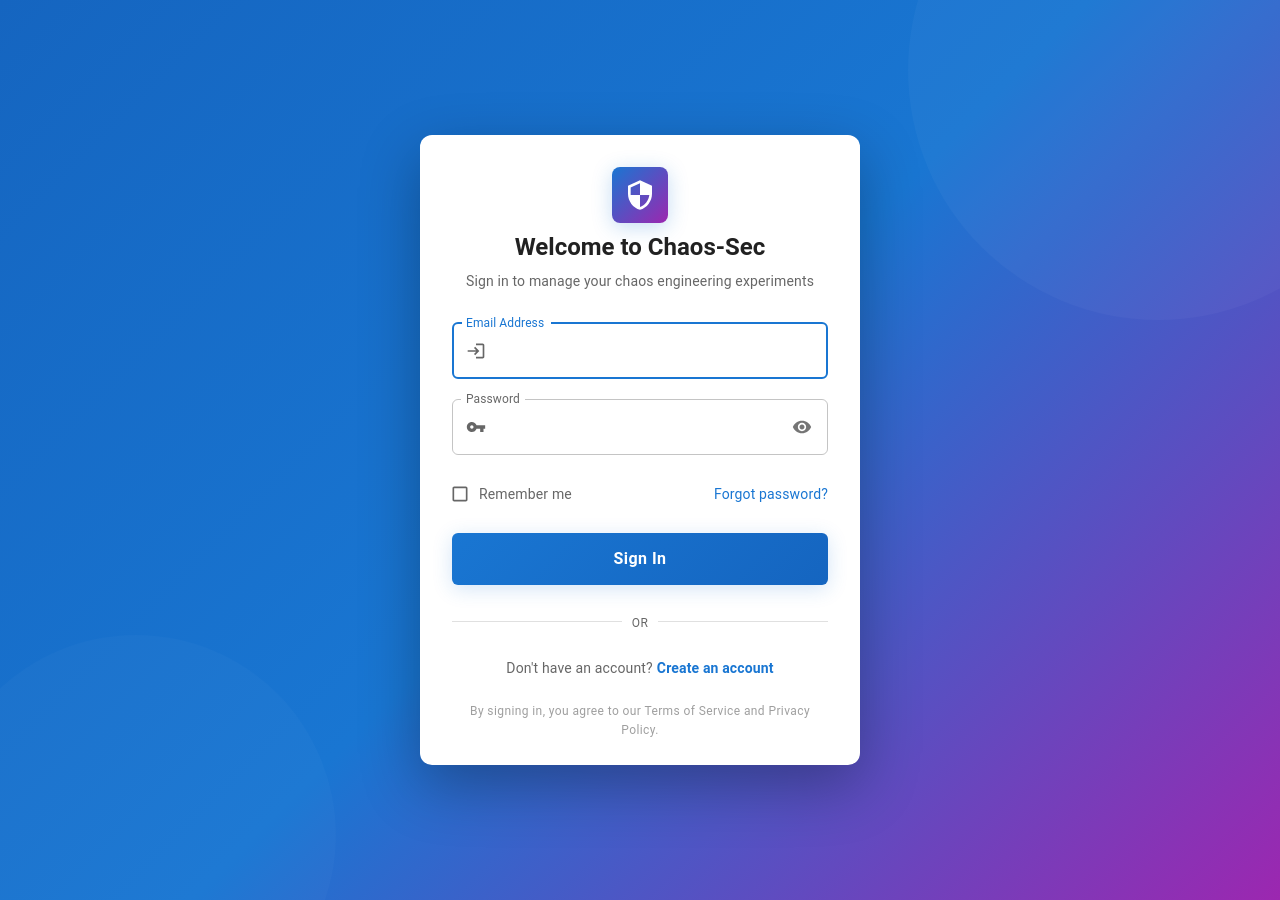
Test: LoginPage – form validation › shows "Enter a valid email address" when email is invalid
This screenshot has width=1280, height=900.
Type "invalid-email" into the field labelled "Email Address".
click(661, 351); type("invalid-email")  # box [494,323,828,379]
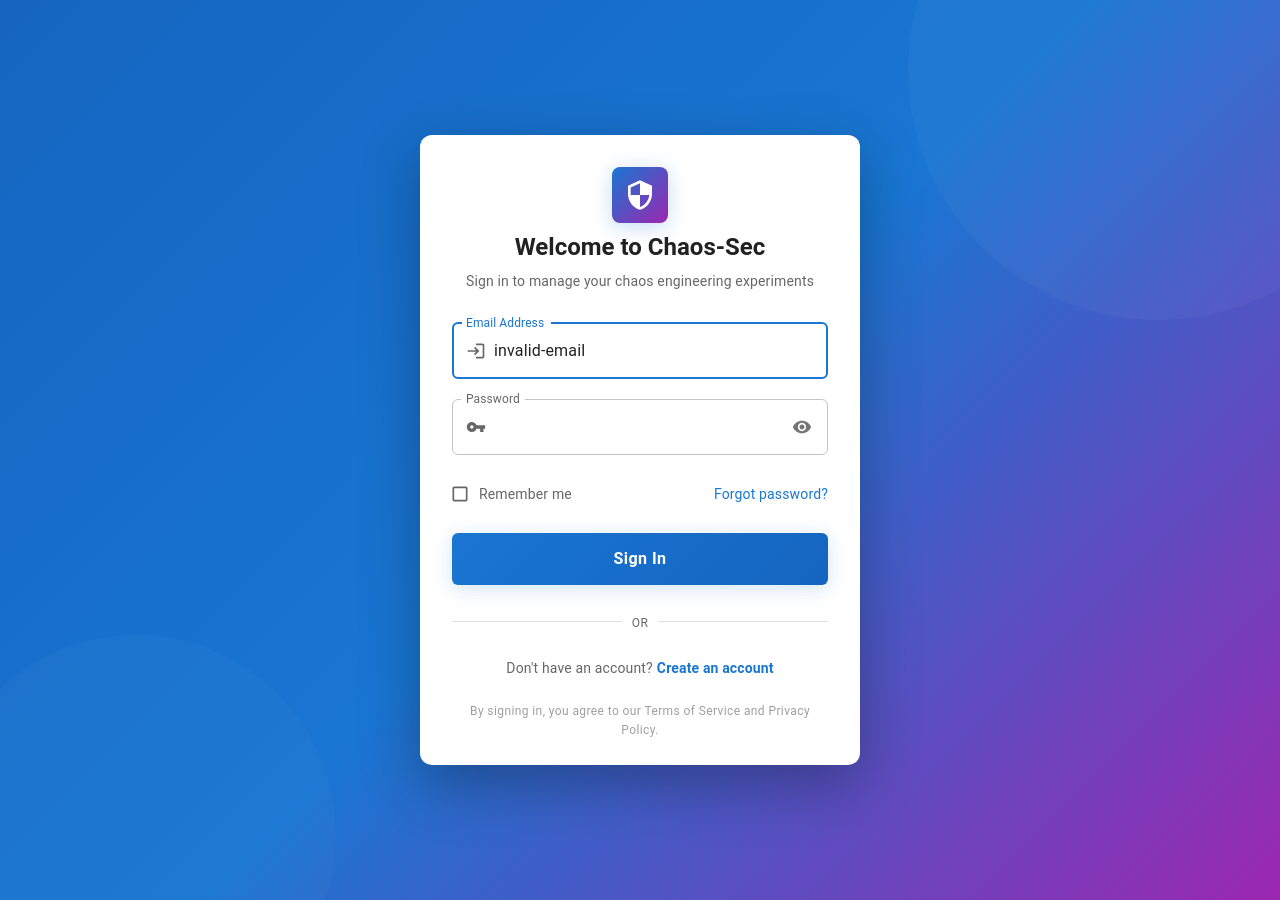
Click the button "Sign In".
click(640, 559)  # box [452,533,828,585]
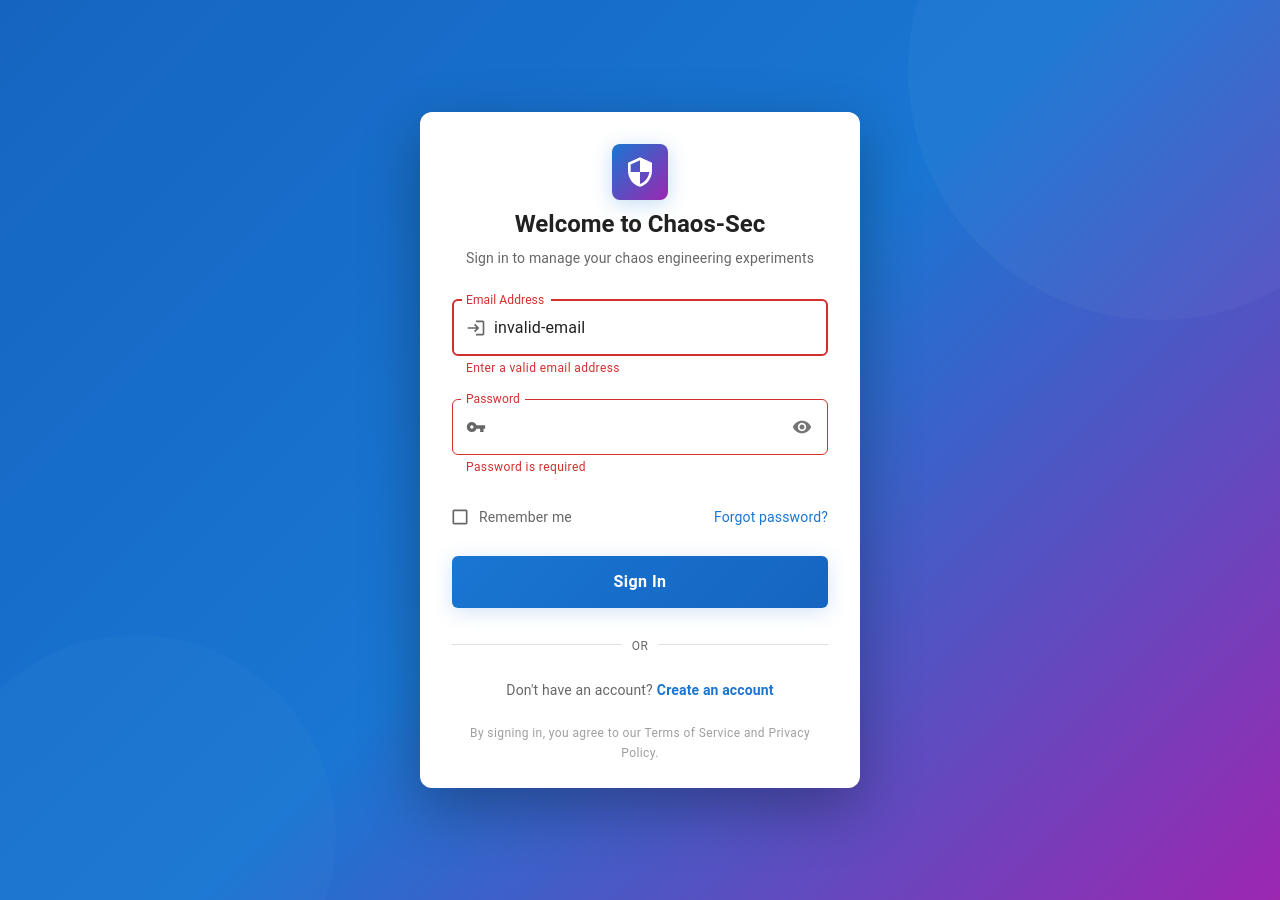
Result: the text "Enter a valid email address" is shown at [466,361,620,375]
